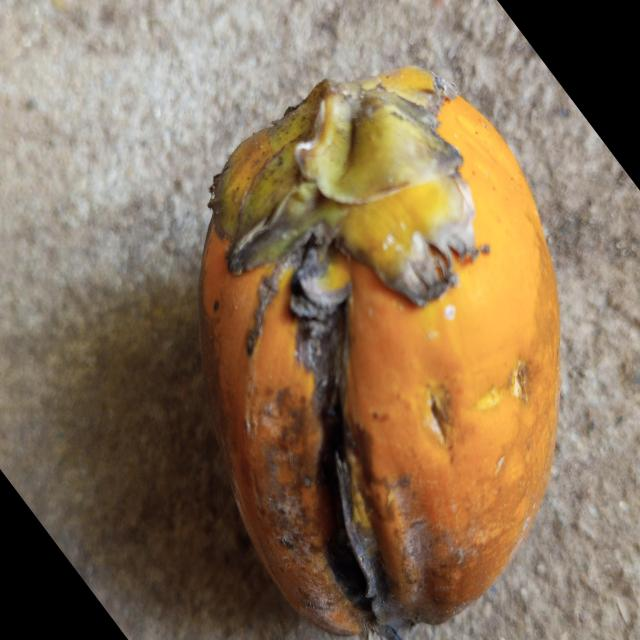damaged: (201, 68, 559, 637)
